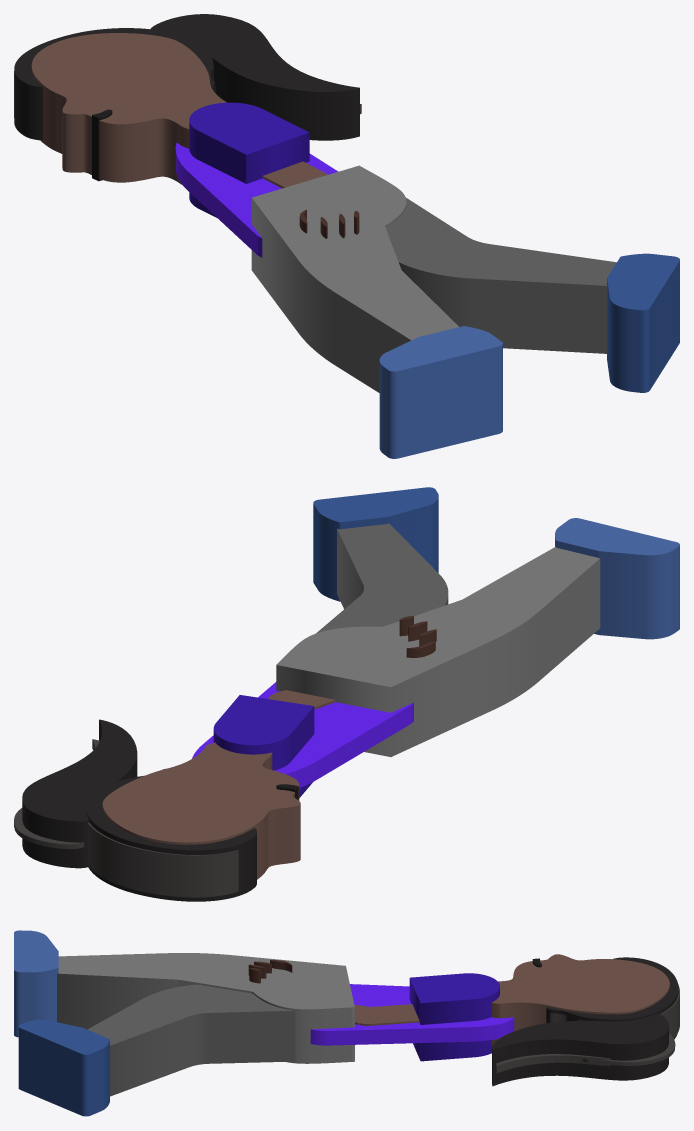
File: emoji_u1f6b6_1f3ff_200d_2640.glb
3 renders of one model, top to bottom at view 1: azimuth 30°, elevation 25°; view 2: azimuth 150°, elevation 25°; view 3: azimuth 270°, elevation 25°, orthographic. The views are drawn at different scales.
Visible parts, largest first — view 1: emoji_u1f6b6_1f3ff_200d_2640; view 2: emoji_u1f6b6_1f3ff_200d_2640; view 3: emoji_u1f6b6_1f3ff_200d_2640.
Part boxes in pixels (box(x1,y1,x2,y2)): emoji_u1f6b6_1f3ff_200d_2640: box(14, 14, 679, 458); emoji_u1f6b6_1f3ff_200d_2640: box(14, 487, 679, 901); emoji_u1f6b6_1f3ff_200d_2640: box(14, 930, 679, 1116).
Bounding box in the file's own units: 0.0144 × 0.0044 × 0.0332.
